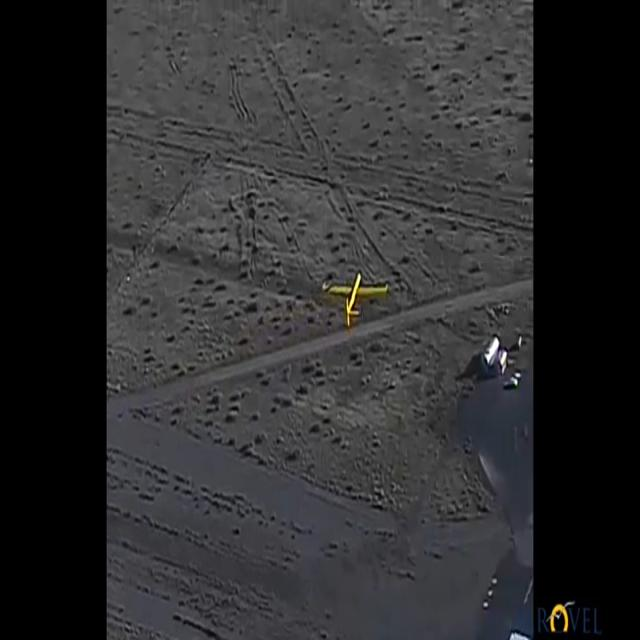iha: (353, 270, 357, 329)
